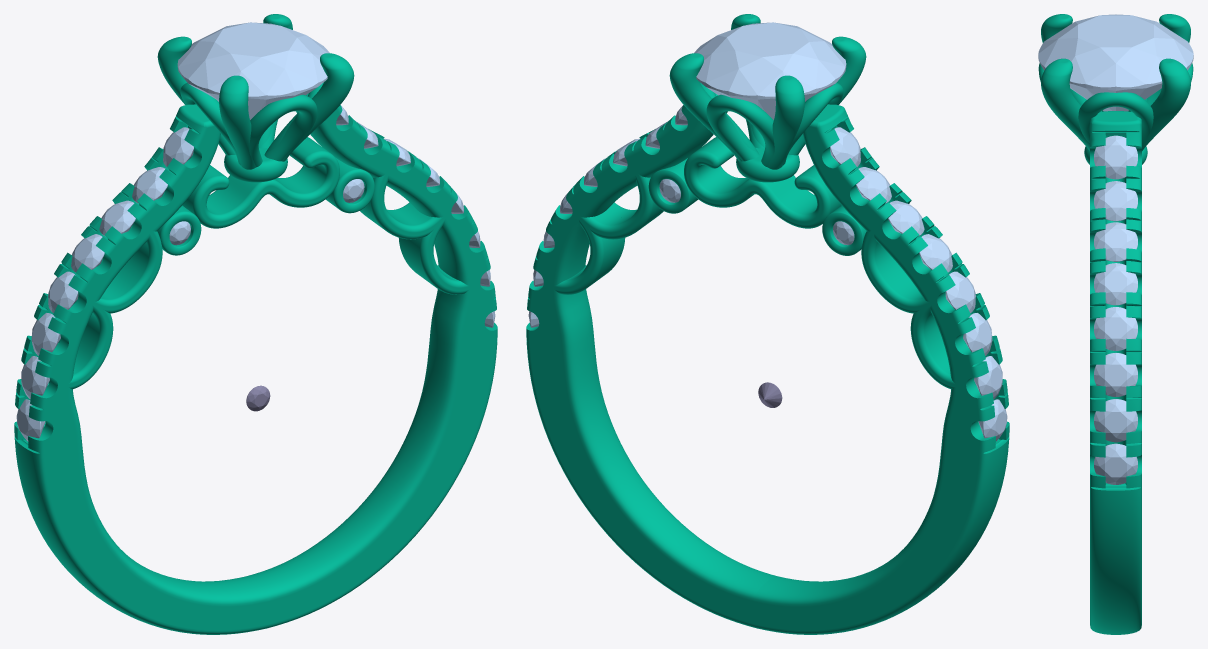
3 views of the same model, side by side, from view 1: azimuth 30°, elevation 25°; view 2: azimuth 150°, elevation 25°; view 3: azimuth 270°, elevation 25° (orthographic).
Visible parts, largest first — view 1: JTC 15710(front).3dm, Diamond_Round, Gem On Curve Advanced Gem (×8); view 2: JTC 15710(front).3dm, Diamond_Round, Gem On Curve Advanced Gem (×7); view 3: JTC 15710(front).3dm, Gem On Curve Advanced Gem (×8), Diamond_Round.
Boxes of the visible parts, x1,y1,x2,y2 form: JTC 15710(front).3dm: (14, 14, 497, 634); Diamond_Round: (177, 22, 329, 119); Gem On Curve Advanced Gem (×8): (16, 127, 193, 441); JTC 15710(front).3dm: (526, 14, 1009, 634); Diamond_Round: (694, 22, 846, 119); Gem On Curve Advanced Gem (×7): (830, 127, 1002, 399); JTC 15710(front).3dm: (1038, 14, 1193, 634); Gem On Curve Advanced Gem (×8): (1094, 135, 1137, 484); Diamond_Round: (1038, 14, 1193, 111).
Size of the model in its own units: 2.52 by 3.01 by 0.7326.
